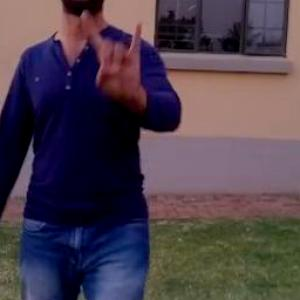takeoff-hand: (78, 3, 146, 115)
